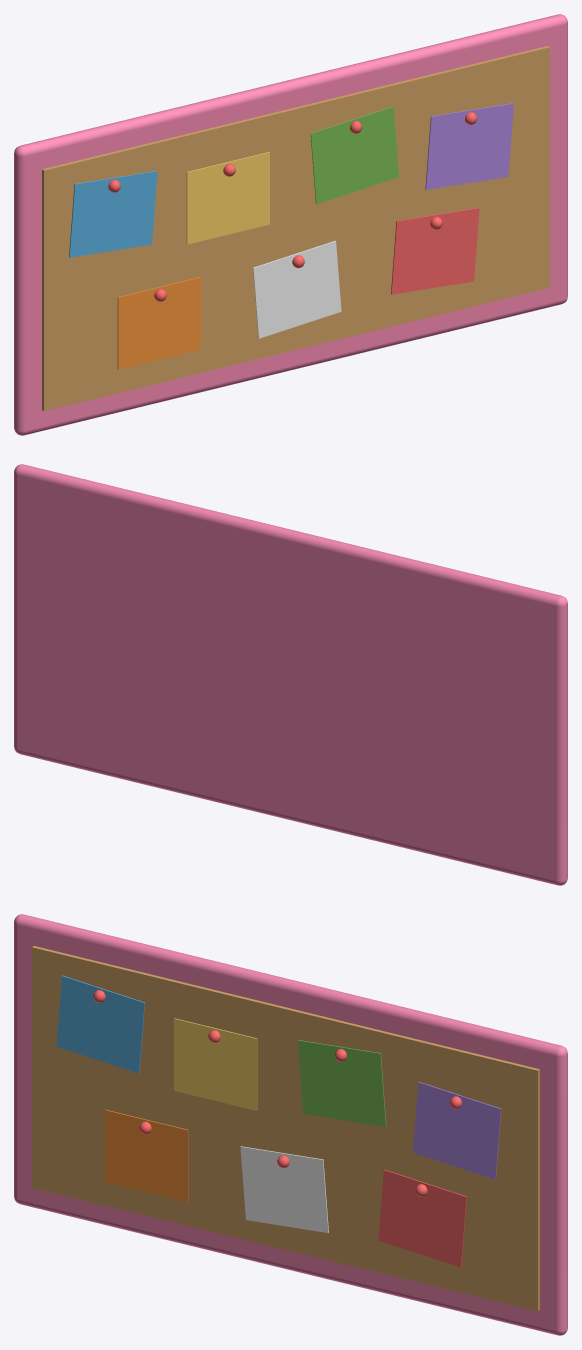
Rendered from kboard-felt.glb.
3 renders of one model, top to bottom at view 1: azimuth 30°, elevation 25°; view 2: azimuth 150°, elevation 25°; view 3: azimuth 330°, elevation 25°, orthographic.
Size of the model in its own units: 2.4 by 1.2 by 0.1082.
